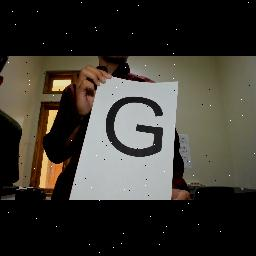g: (100, 90, 170, 166)
